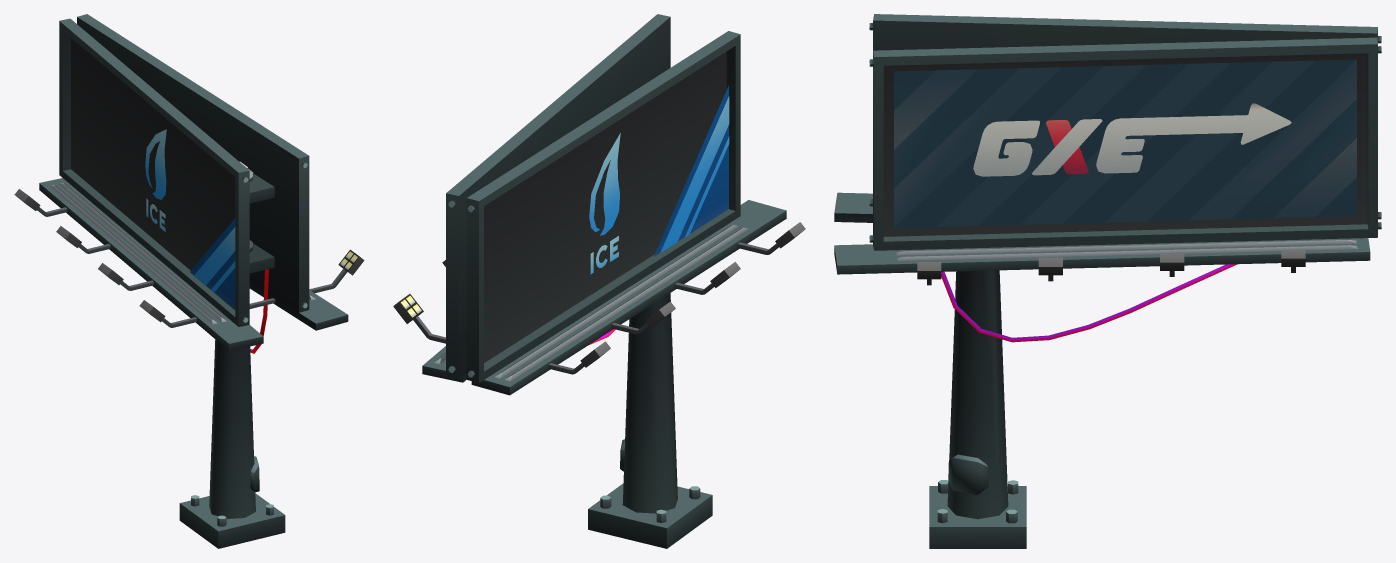
Rendered from Billboard_2C.fbx.
3 views of the same model, side by side, from view 1: azimuth 30°, elevation 25°; view 2: azimuth 150°, elevation 25°; view 3: azimuth 270°, elevation 25° (orthographic). The views are drawn at different scales.
Visible parts, largest first — view 1: Billboard_2C, Billboard_2C_Image.L; view 2: Billboard_2C, Billboard_2C_Image.L; view 3: Billboard_2C, Billboard_2C_Image.R.
Boxes of the visible parts, x1=… form: Billboard_2C: x1=14, y1=14, x2=364, y2=548; Billboard_2C_Image.L: x1=145, y1=129, x2=235, y2=310; Billboard_2C: x1=393, y1=14, x2=805, y2=548; Billboard_2C_Image.L: x1=589, y1=85, x2=729, y2=274; Billboard_2C: x1=834, y1=14, x2=1381, y2=548; Billboard_2C_Image.R: x1=894, y1=59, x2=1356, y2=227.
Bounding box in the file's own units: 196 × 341 × 344.
